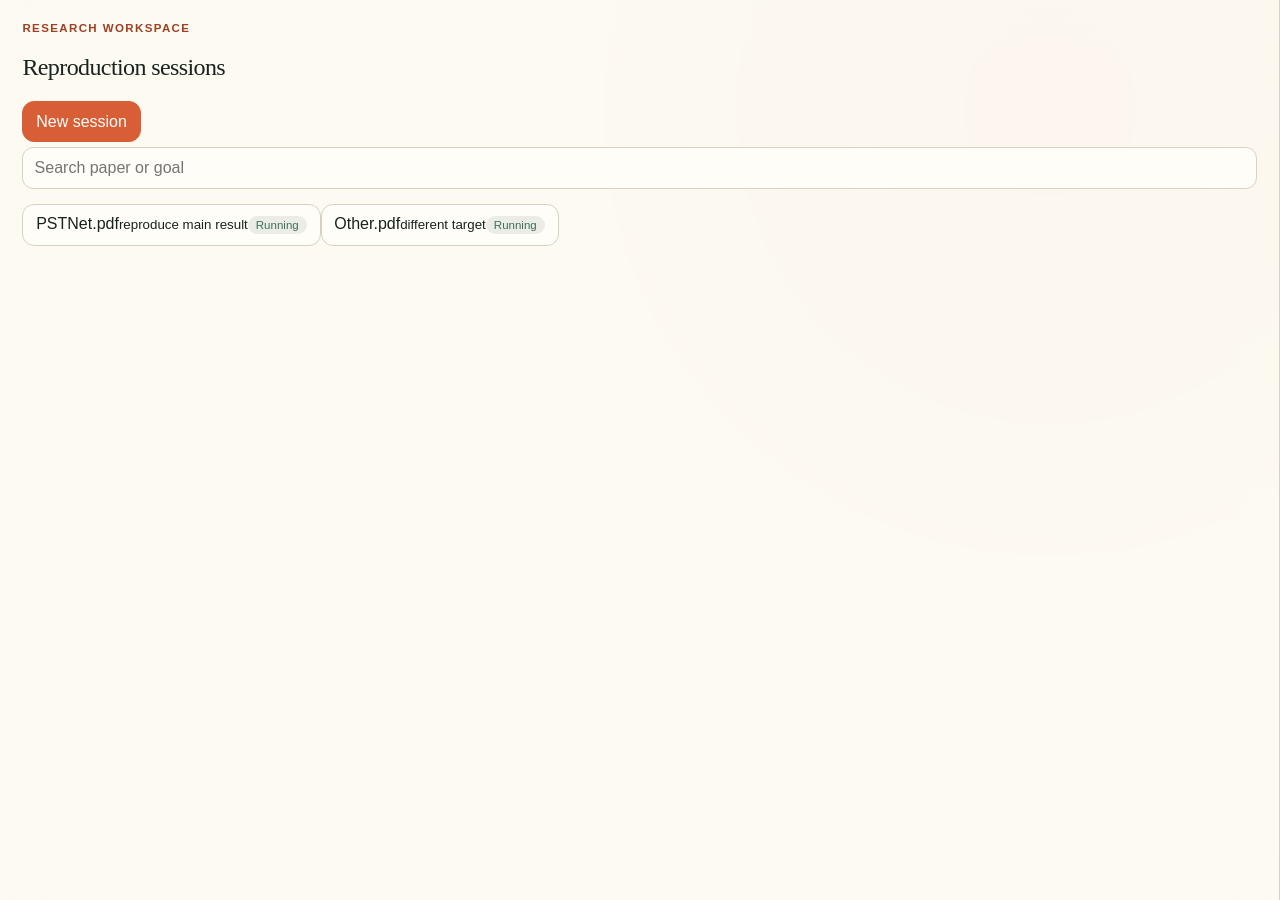
it: conversation projection › filters session history without changing server state
This screenshot has width=1280, height=900.
Step 1. Type "PSTNet" into the field named "Search sessions" → [640, 168], box [22,147,1257,189]
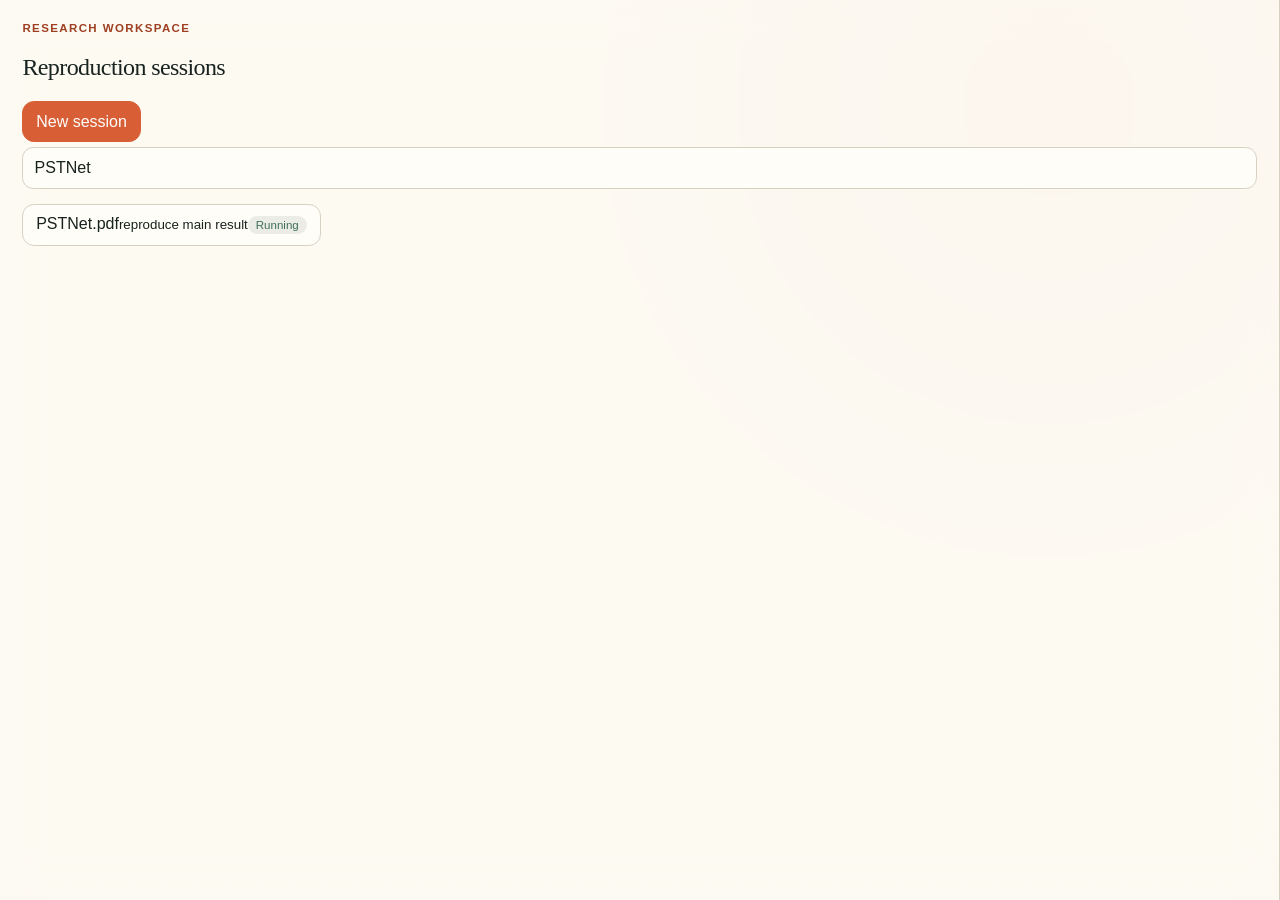
Expected: the element with class "session-sidebar" shows "PSTNet.pdf", [22,204,320,246]
Expected: the button with class "session-sidebar" no longer shows "Other.pdf"
